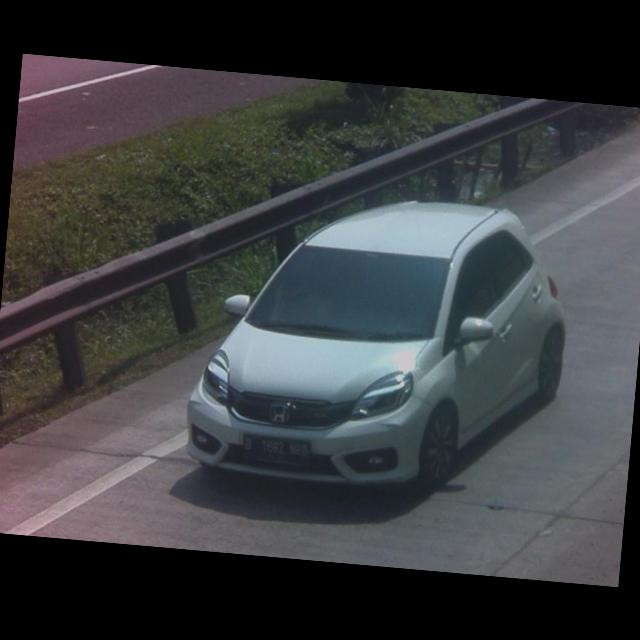plate: (238, 430, 312, 464)
